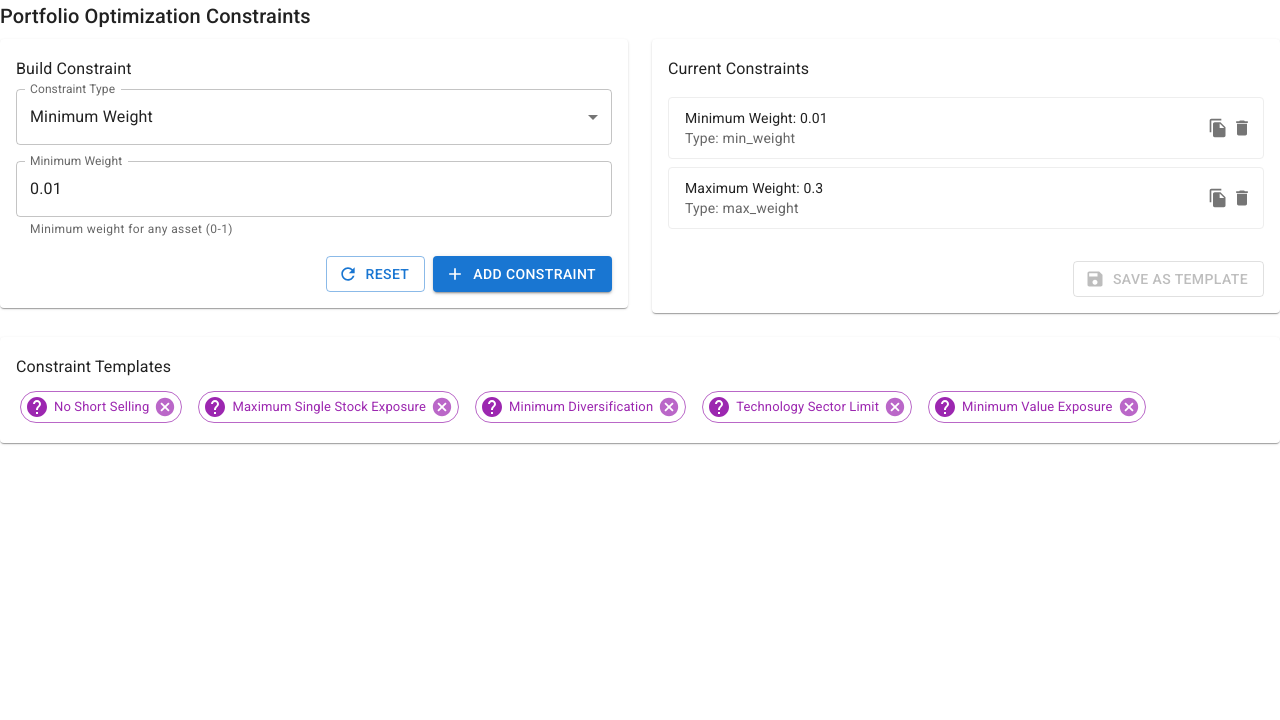
OptimizationConstraintBuilder › allows saving a constraint as template
This screenshot has width=1280, height=720.
Note: Click on the first constraint to select it
Click the text "Minimum Weight: 0.01".
click(756, 118)  # box x1=685 y1=110 x2=828 y2=126
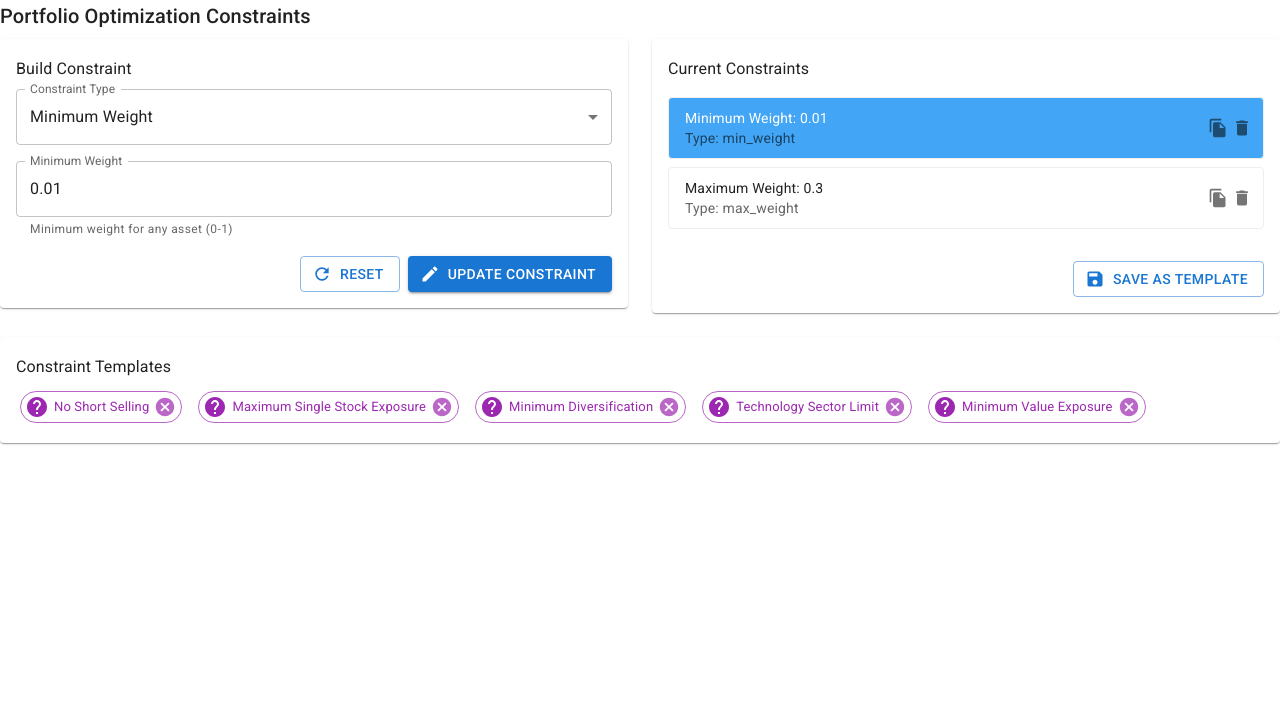
Note: Click Save as Template button
Click the button "Save as Template".
click(1168, 279)  # box x1=1073 y1=261 x2=1264 y2=297
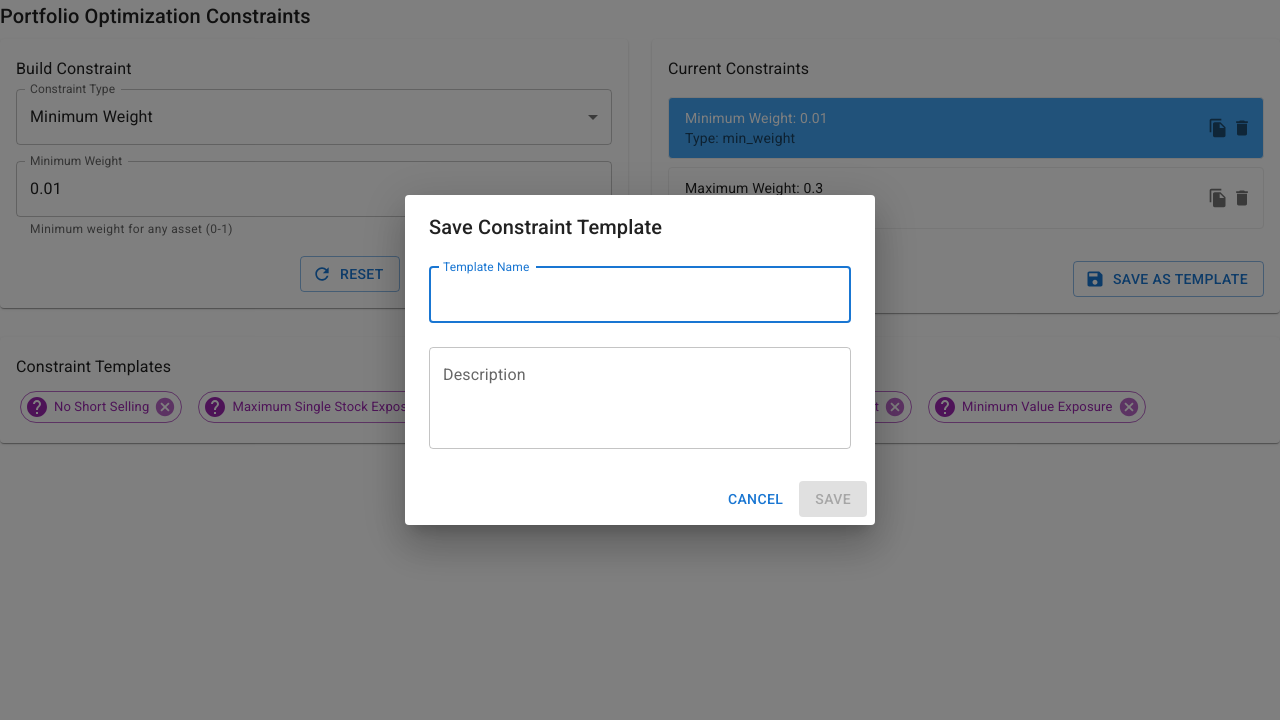
Note: Fill in template name and description
Type "My Template" into the field labelled "Template Name".
click(640, 295); type("My Template")  # box x1=429 y1=267 x2=851 y2=323
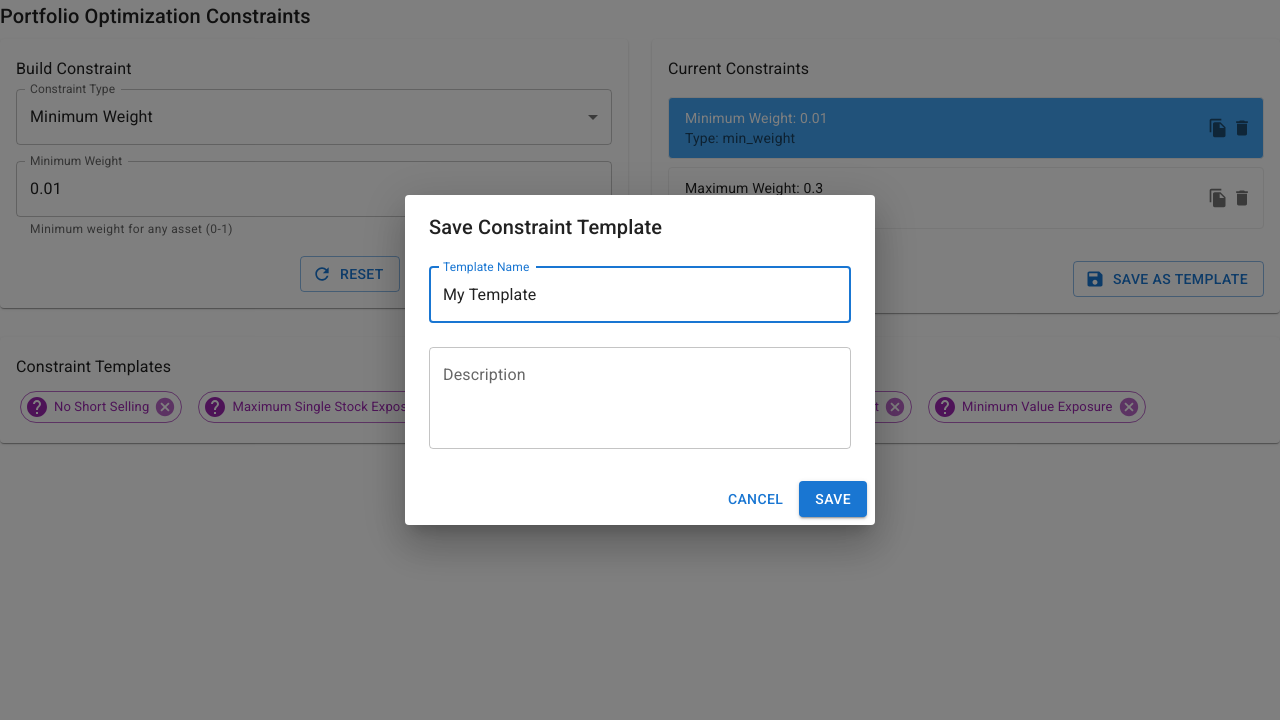
Type "My custom template" into the text box labelled "Description".
click(640, 398); type("My custom template")  # box x1=443 y1=363 x2=837 y2=432
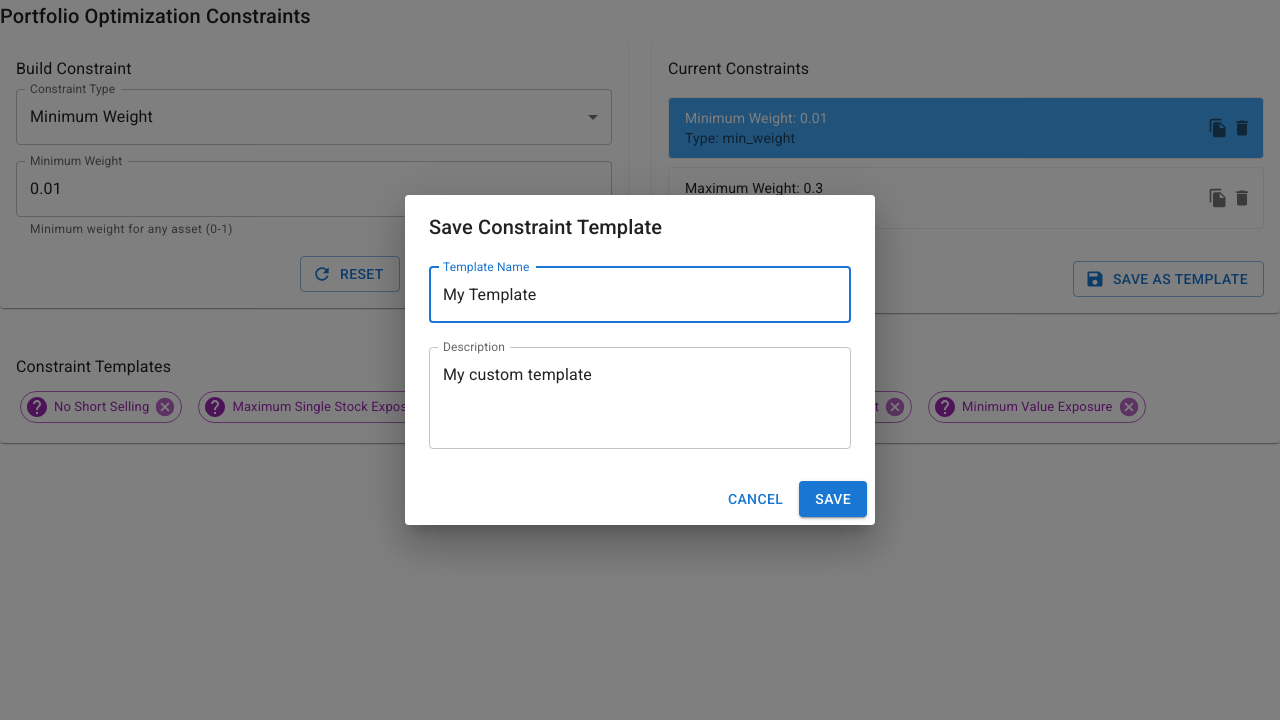
Note: Click Save button in dialog
Click the button "Save".
click(833, 499)  # box x1=799 y1=481 x2=867 y2=517
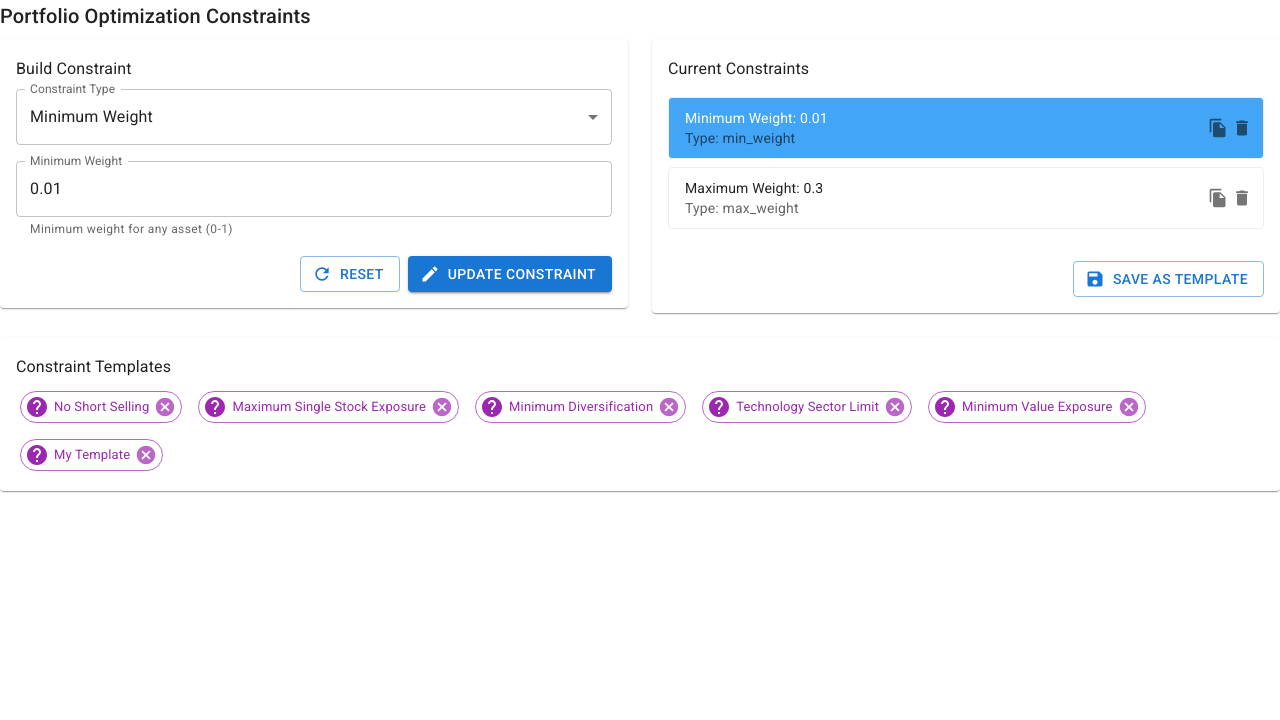
Expected: the text "My Template" is shown, x1=54 y1=447 x2=130 y2=462
